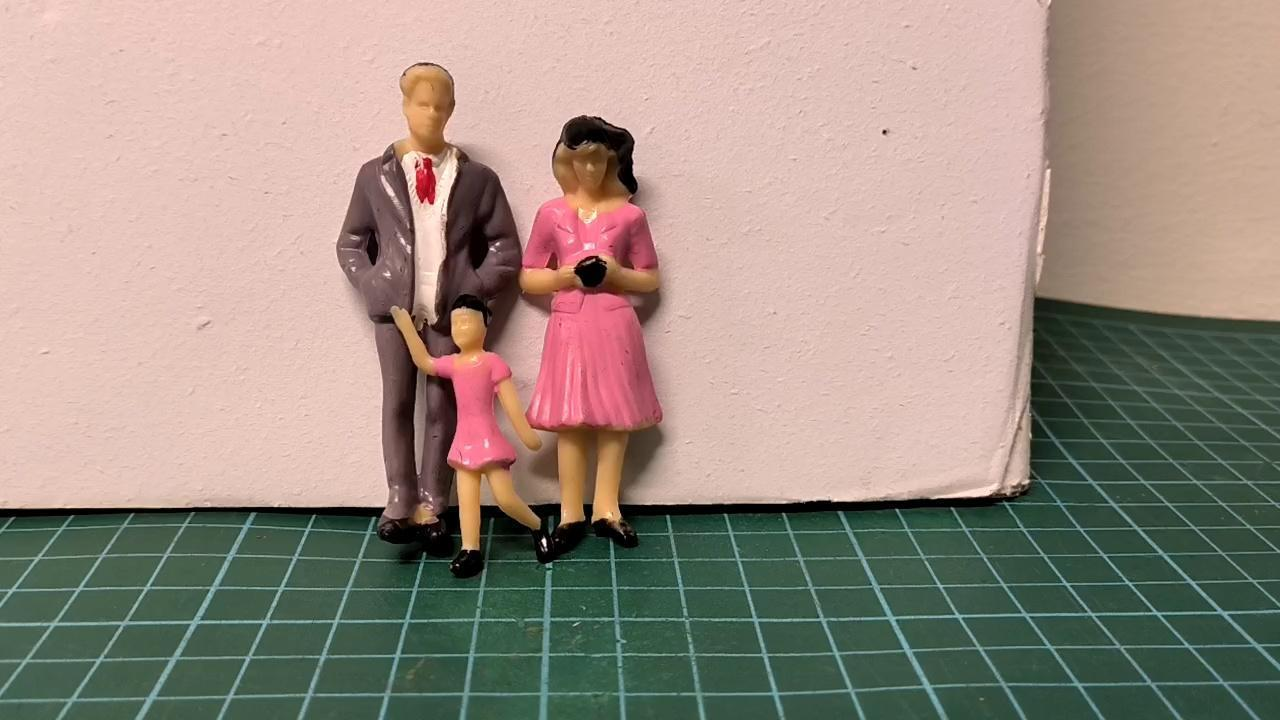human: (333, 61, 524, 547), (524, 115, 667, 556), (388, 296, 549, 579)
